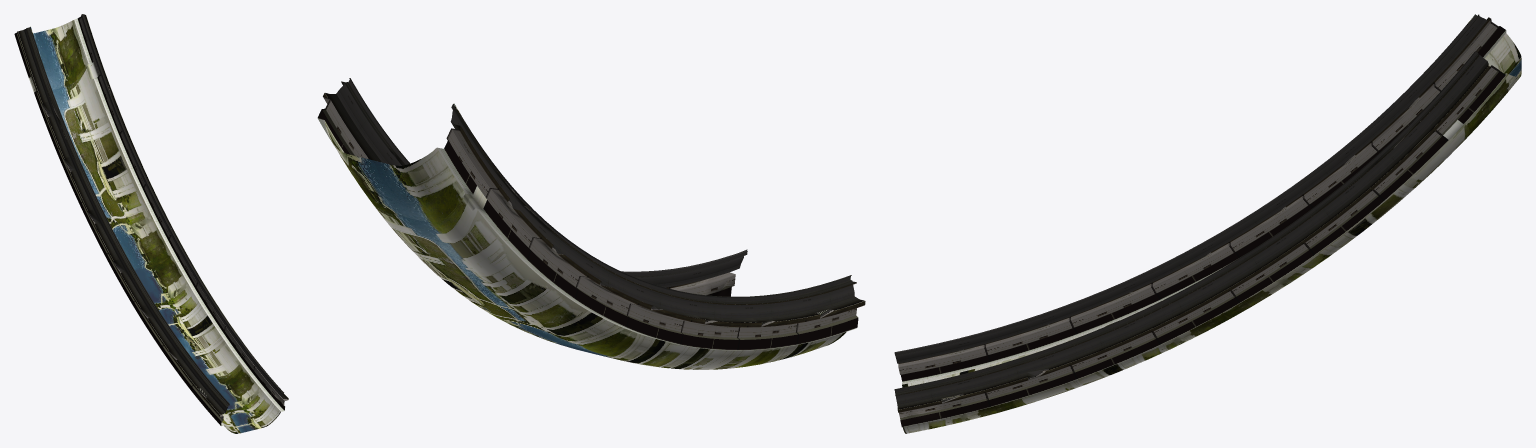
File: STA20_EndCapA01.FBX
3 renders of one model, left to right at view 1: azimuth 30°, elevation 25°; view 2: azimuth 150°, elevation 25°; view 3: azimuth 270°, elevation 25°, orthographic. The views are drawn at different scales.
Parts seen in each view (by area): view 1: STA20_EndCapA01; view 2: STA20_EndCapA01; view 3: STA20_EndCapA01.
Part boxes in pixels (left/top/right/bottom): STA20_EndCapA01: left=14, top=14, right=288, bottom=433; STA20_EndCapA01: left=317, top=78, right=865, bottom=369; STA20_EndCapA01: left=894, top=14, right=1521, bottom=433.
Bounding box in the file's own units: 395 × 1477 × 2147.
